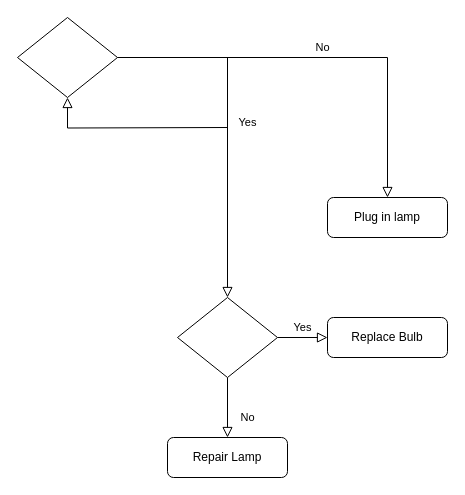
This 465x495 diagram has some shape labels left out. The shapes that lost their labels are listed below. From the top down, each one's centre as x and y in pixels, then its label:
At [67,57]: "Lamp plugged in?".
At [227,337]: "Bulb burned out?".
